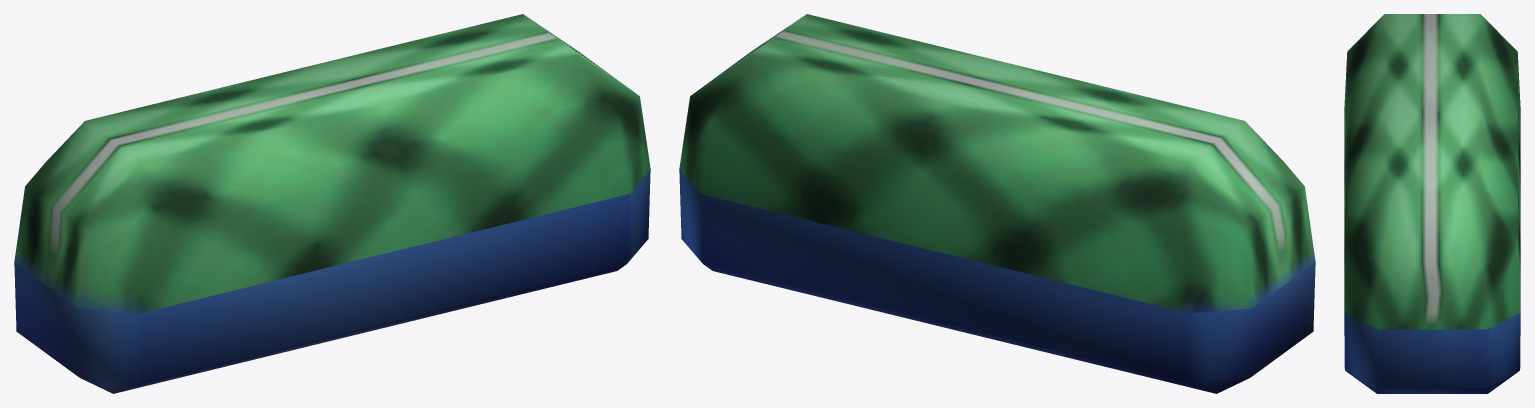
The model's file is pencilCase_typeA3.FBX.
3 views of the same model, side by side, from view 1: azimuth 30°, elevation 25°; view 2: azimuth 150°, elevation 25°; view 3: azimuth 270°, elevation 25° (orthographic). The views are drawn at different scales.
Parts seen in each view (by area): view 1: PencilCaseA3; view 2: PencilCaseA3; view 3: PencilCaseA3.
Boxes of the visible parts, x1=… form: PencilCaseA3: x1=14, y1=14, x2=650, y2=393; PencilCaseA3: x1=679, y1=14, x2=1315, y2=393; PencilCaseA3: x1=1344, y1=14, x2=1520, y2=393.
Bounding box in the file's own units: 19.85 × 7.3 × 6.28.
